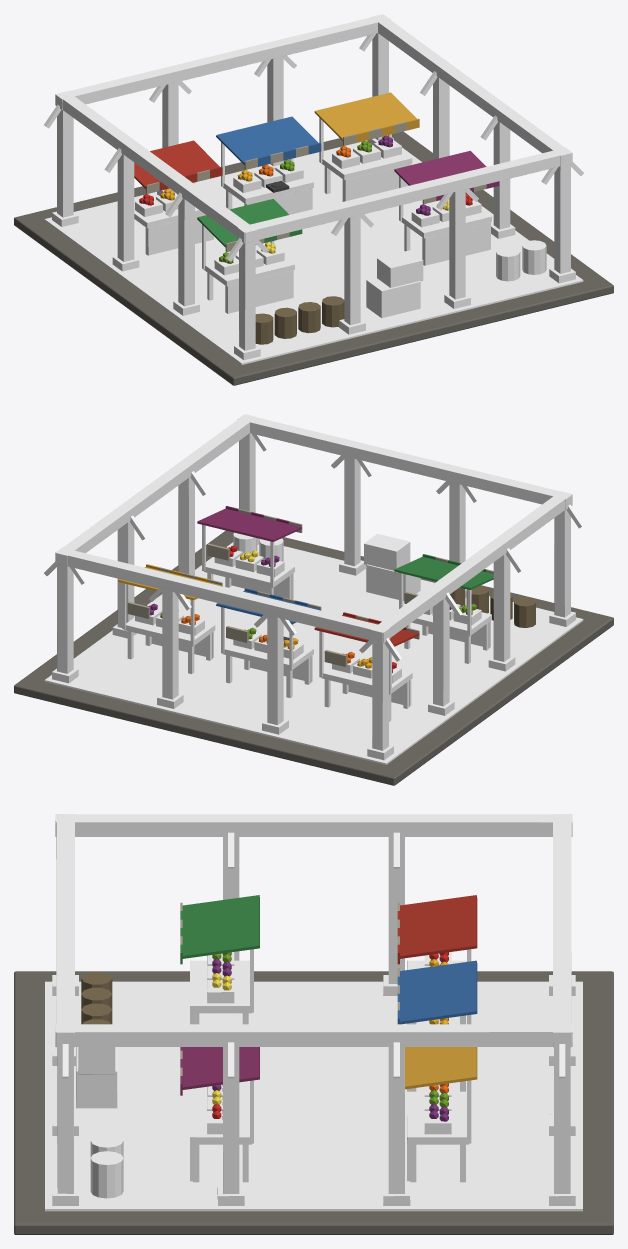
Rendered from hal.glb.
3 views of the same model, one above another, from view 1: azimuth 30°, elevation 25°; view 2: azimuth 150°, elevation 25°; view 3: azimuth 270°, elevation 25° (orthographic). The views are drawn at different scales.
Parts seen in each view (by area): view 1: Icosphere; view 2: Icosphere; view 3: Icosphere.
Part boxes in pixels (<box>): Icosphere: <box>14,14,613,385</box>; Icosphere: <box>14,414,613,785</box>; Icosphere: <box>14,814,613,1234</box>.
Size of the model in its own units: 1 by 0.3414 by 1.
